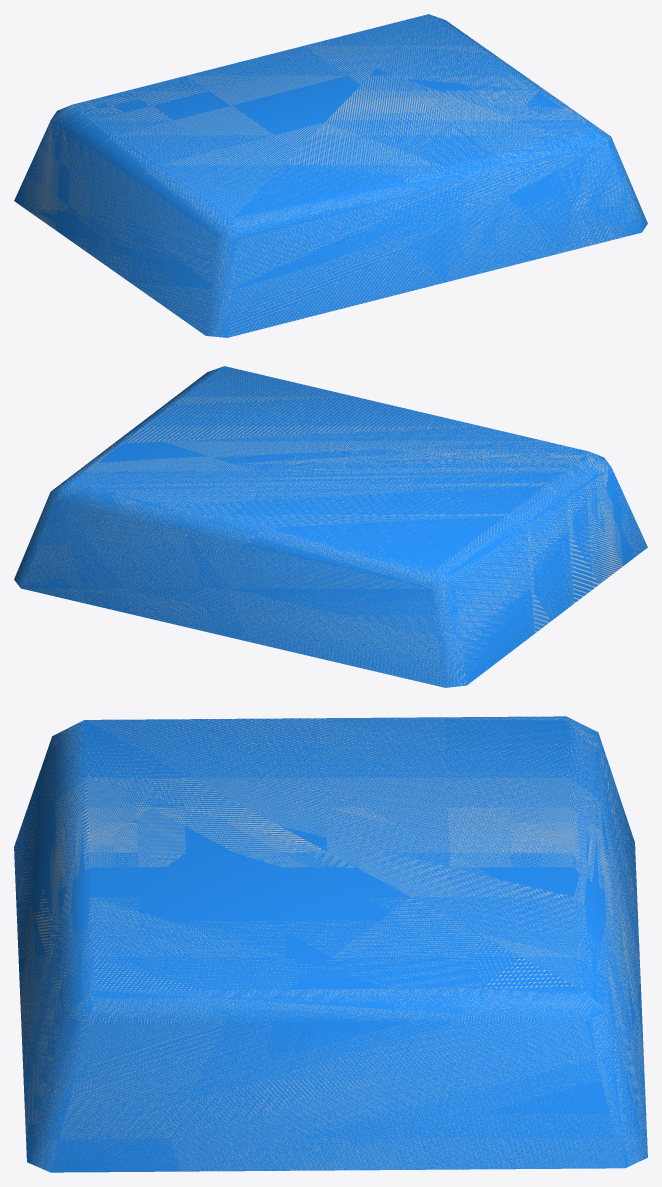
The model's file is original-13.obj.
3 views of the same model, one above another, from view 1: azimuth 30°, elevation 25°; view 2: azimuth 150°, elevation 25°; view 3: azimuth 270°, elevation 25° (orthographic). The views are drawn at different scales.
Visible parts, largest first — view 1: mesh12/mesh12-geometry#mesh12-geometry; view 2: mesh12/mesh12-geometry#mesh12-geometry; view 3: mesh12/mesh12-geometry#mesh12-geometry.
Part boxes in pixels (x1,y1,x2,y2): mesh12/mesh12-geometry#mesh12-geometry: (14, 14, 647, 337); mesh12/mesh12-geometry#mesh12-geometry: (14, 366, 647, 687); mesh12/mesh12-geometry#mesh12-geometry: (14, 716, 647, 1172).
Bounding box in the file's own units: 0.0594 × 0.0121 × 0.0467.
